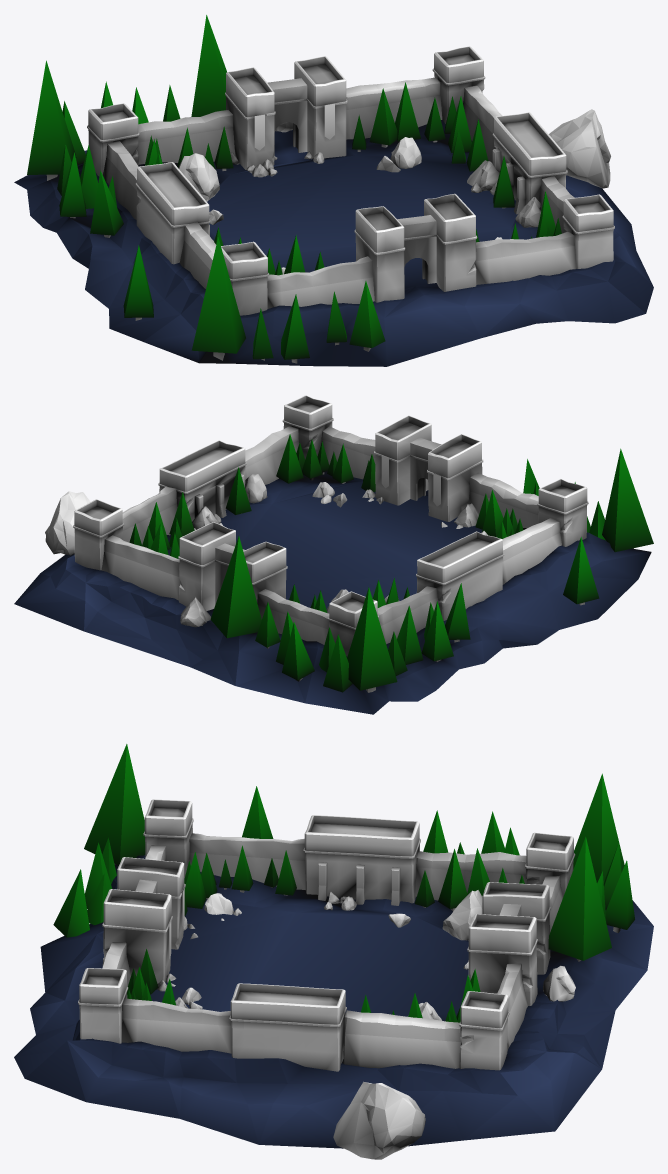
The model's file is scence2.FBX.
3 renders of one model, top to bottom at view 1: azimuth 30°, elevation 25°; view 2: azimuth 150°, elevation 25°; view 3: azimuth 270°, elevation 25°, orthographic. The views are drawn at different scales.
Parts seen in each view (by area): view 1: AllSky_DemoEnvironment_Center, Object001, Object002, Object005; view 2: AllSky_DemoEnvironment_Center, Object001, Object002; view 3: AllSky_DemoEnvironment_Center, Object001, Object002.
Boxes of the visible parts, <box> form: AllSky_DemoEnvironment_Center: <box>27,15,614,363</box>; Object001: <box>14,120,653,366</box>; Object002: <box>207,141,532,293</box>; Object005: <box>376,137,421,172</box>; AllSky_DemoEnvironment_Center: <box>45,395,653,692</box>; Object001: <box>14,471,651,714</box>; Object002: <box>166,478,482,609</box>; AllSky_DemoEnvironment_Center: <box>53,744,634,1159</box>; Object001: <box>14,855,653,1148</box>; Object002: <box>150,899,468,1021</box>.
Size of the model in its own units: 217334 by 59874 by 203746.
